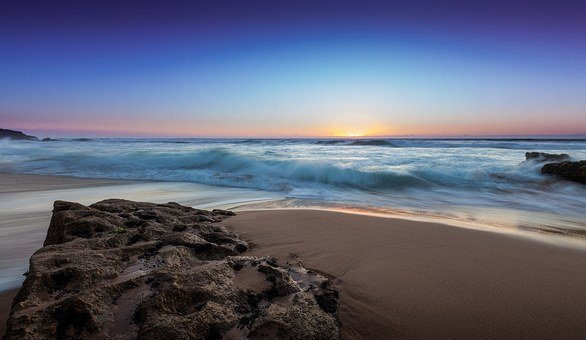sea: (6, 135, 586, 339)
sky: (5, 5, 582, 133)
